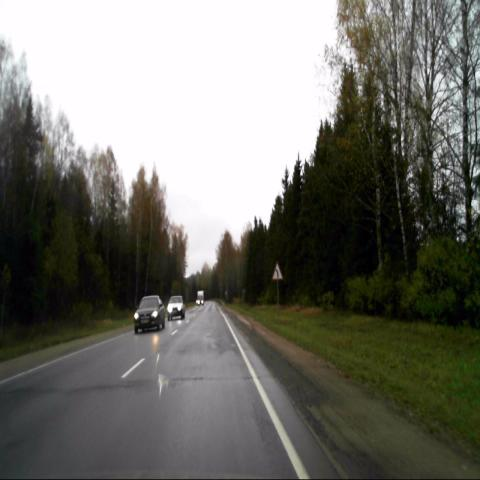1_11_1: (272, 262, 283, 281)
